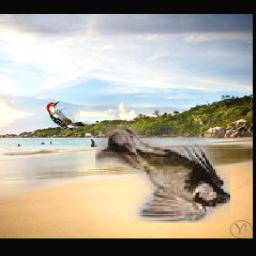Sparrow: (95, 124, 230, 223)
Woodpecker: (47, 101, 87, 132)
